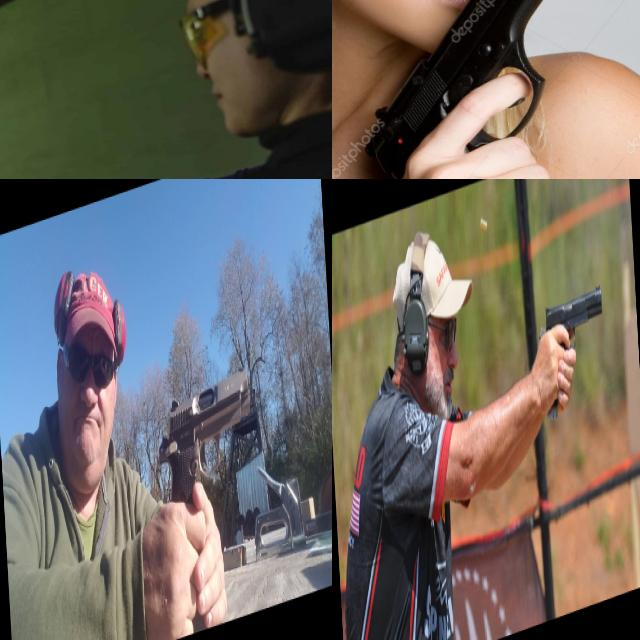handgun: (332, 0, 637, 179), (152, 358, 257, 536), (535, 276, 609, 428), (0, 119, 43, 179)
